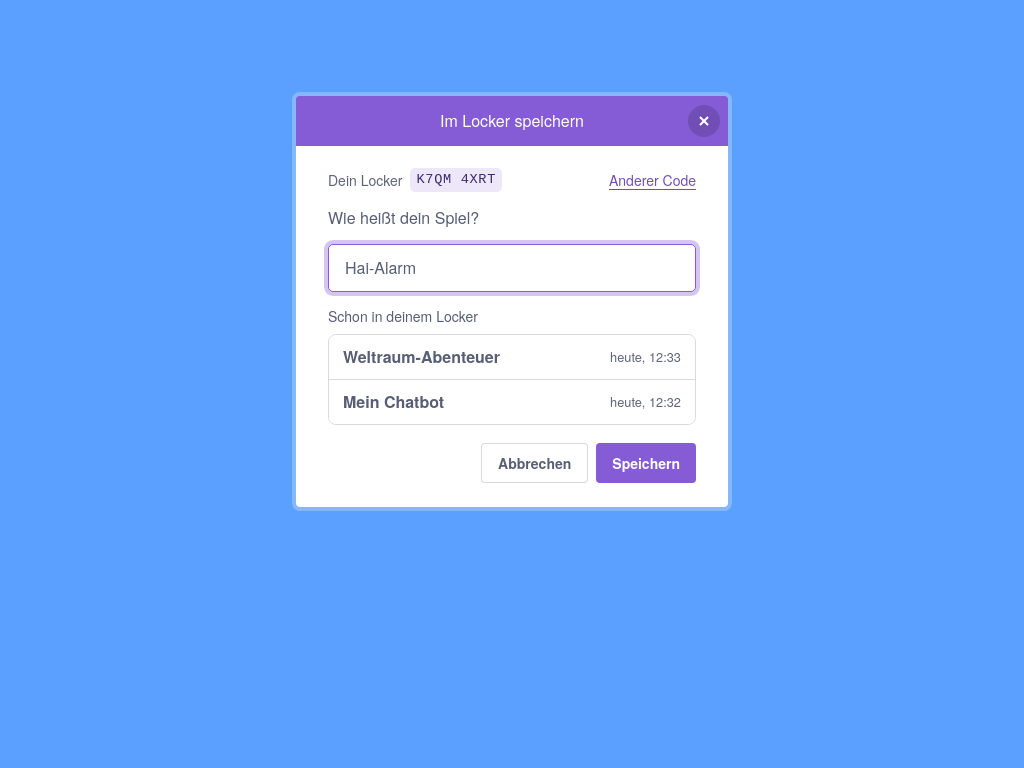
Test: LockerDialog › clicking a game in the list takes over its name
This screenshot has width=1024, height=768.
Expected: the field labelled "Wie heißt dein Spiel?" is shown, [328,244,696,292]
Click the button "Mein Chatbot heute, 12:32".
click(394, 401)  # box [329,379,695,424]
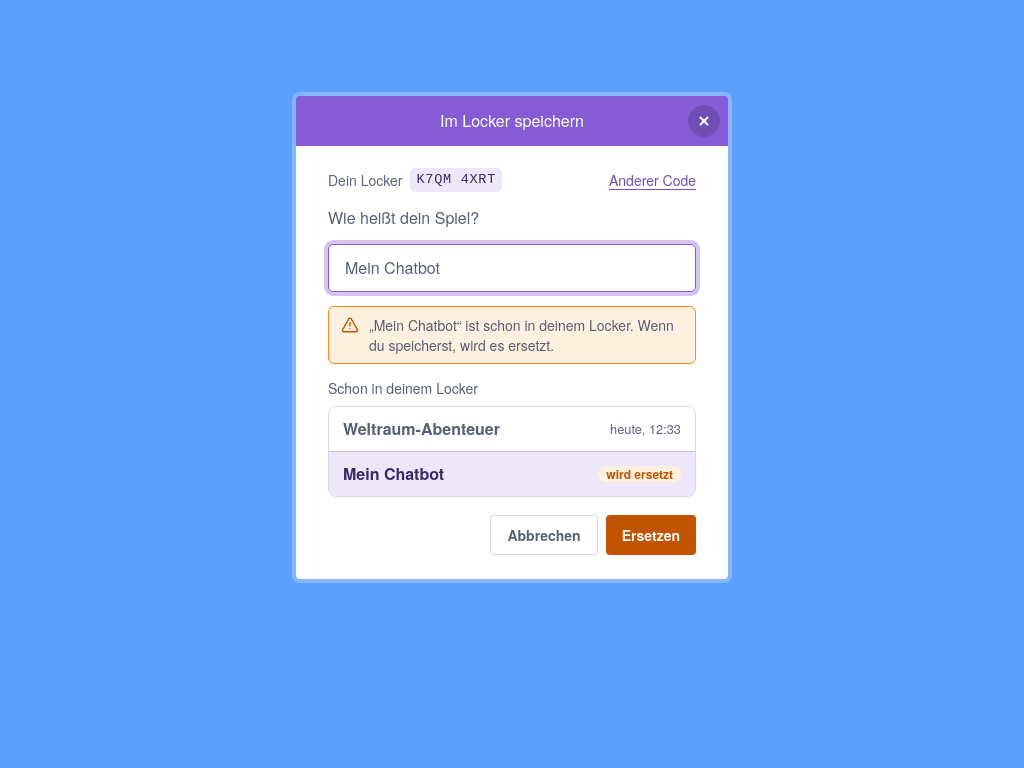
Result: the field labelled "Wie heißt dein Spiel?" holds "Mein Chatbot" at [328,244,696,292]
